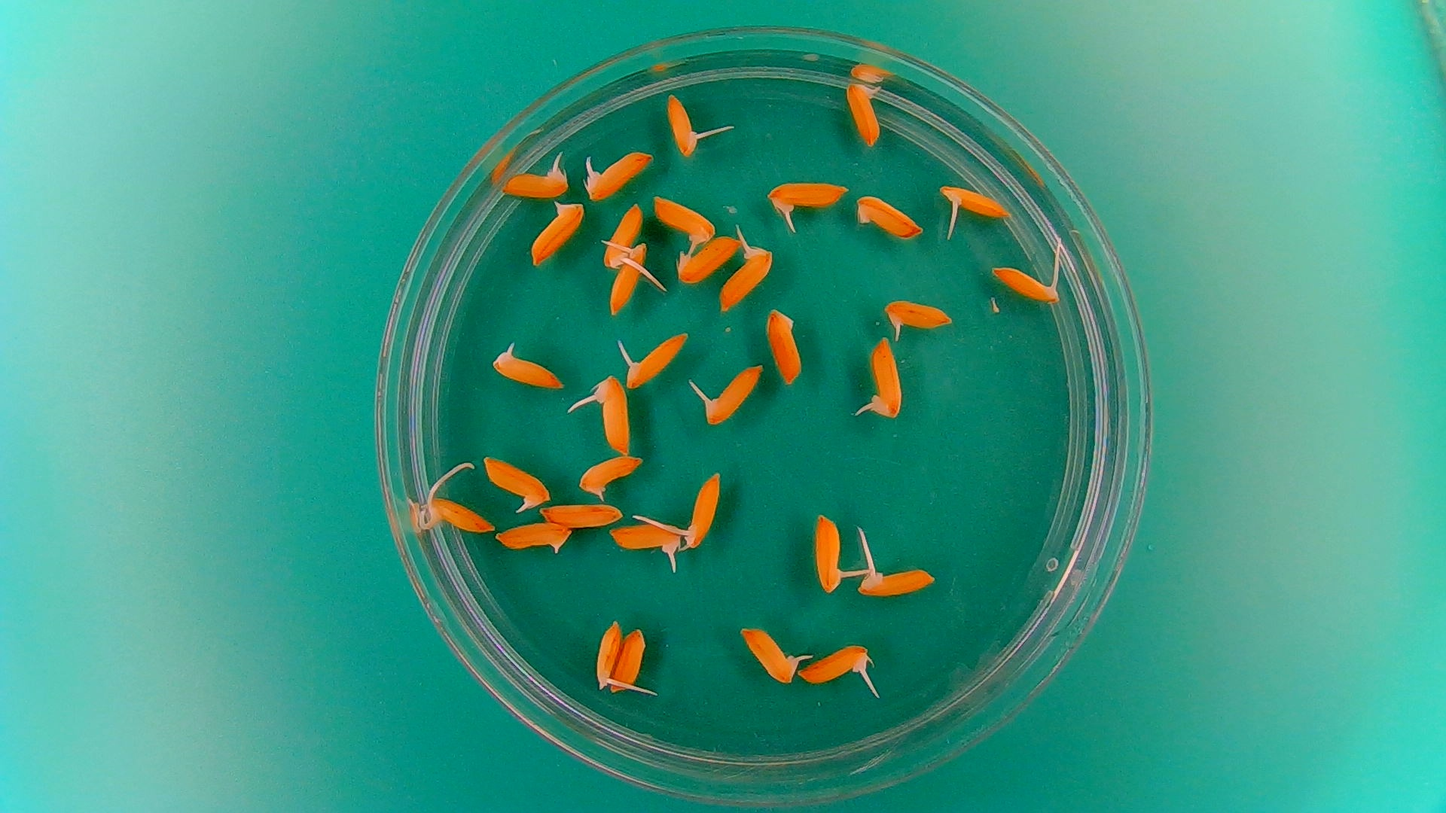no: (853, 192, 926, 240), (676, 233, 740, 285), (764, 305, 804, 386), (493, 519, 572, 557), (609, 625, 647, 692), (538, 503, 625, 529)
yes: (484, 449, 552, 510), (622, 329, 691, 388), (528, 198, 586, 267), (717, 243, 773, 312), (736, 623, 799, 684), (795, 642, 873, 691), (582, 148, 654, 201), (703, 362, 762, 424), (649, 193, 713, 246), (683, 470, 723, 553), (608, 240, 651, 317), (607, 519, 683, 562), (592, 376, 633, 454), (938, 182, 1014, 224), (599, 203, 644, 272), (664, 89, 709, 158), (765, 177, 850, 212), (842, 79, 883, 148), (989, 265, 1063, 303), (489, 349, 561, 388), (869, 340, 905, 418), (426, 495, 496, 535), (853, 564, 932, 598), (813, 513, 845, 595), (580, 452, 642, 493), (504, 163, 571, 198), (880, 300, 950, 333), (594, 620, 624, 693)
